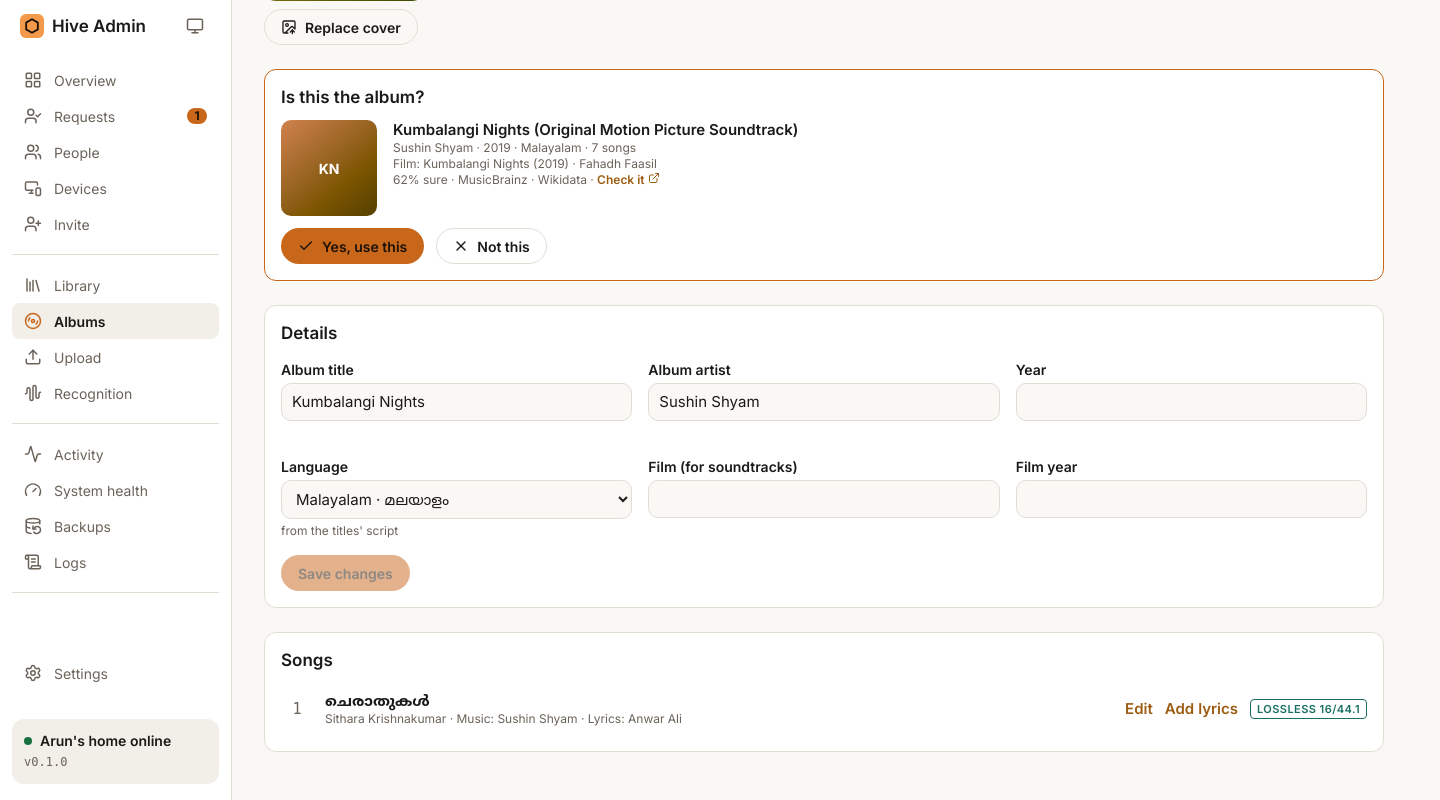
Test: Albums page › finds lyrics online, then saves them
(page scrolled)
Click the button with aria-label "Lyrics for ചെരാതുകൾ": (1201, 709) left=1165, top=699, right=1238, bottom=719
(page scrolled)
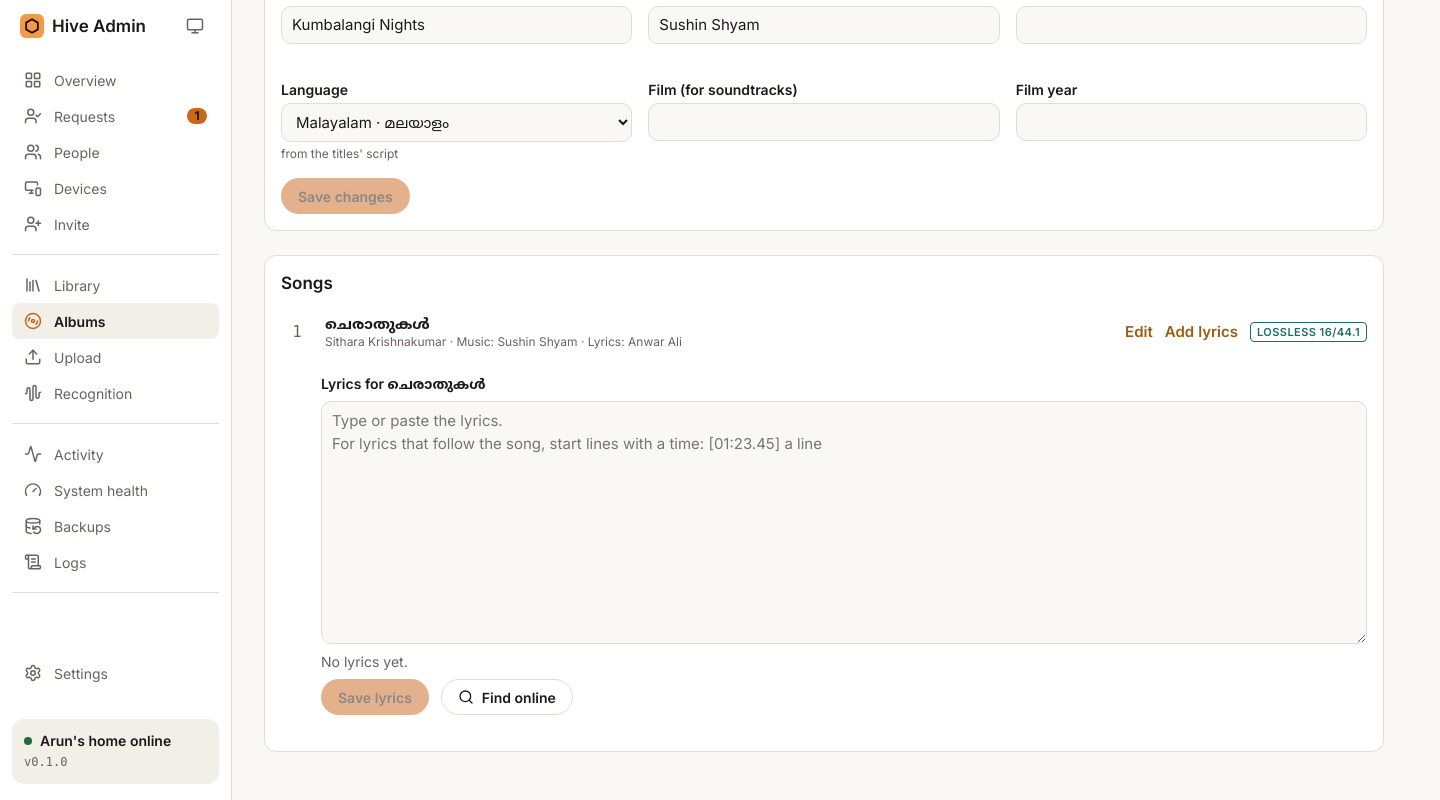
Expected: the text "No lyrics yet." is shown, left=321, top=653, right=408, bottom=670
Click the button "Find online": (507, 697) left=441, top=679, right=573, bottom=715
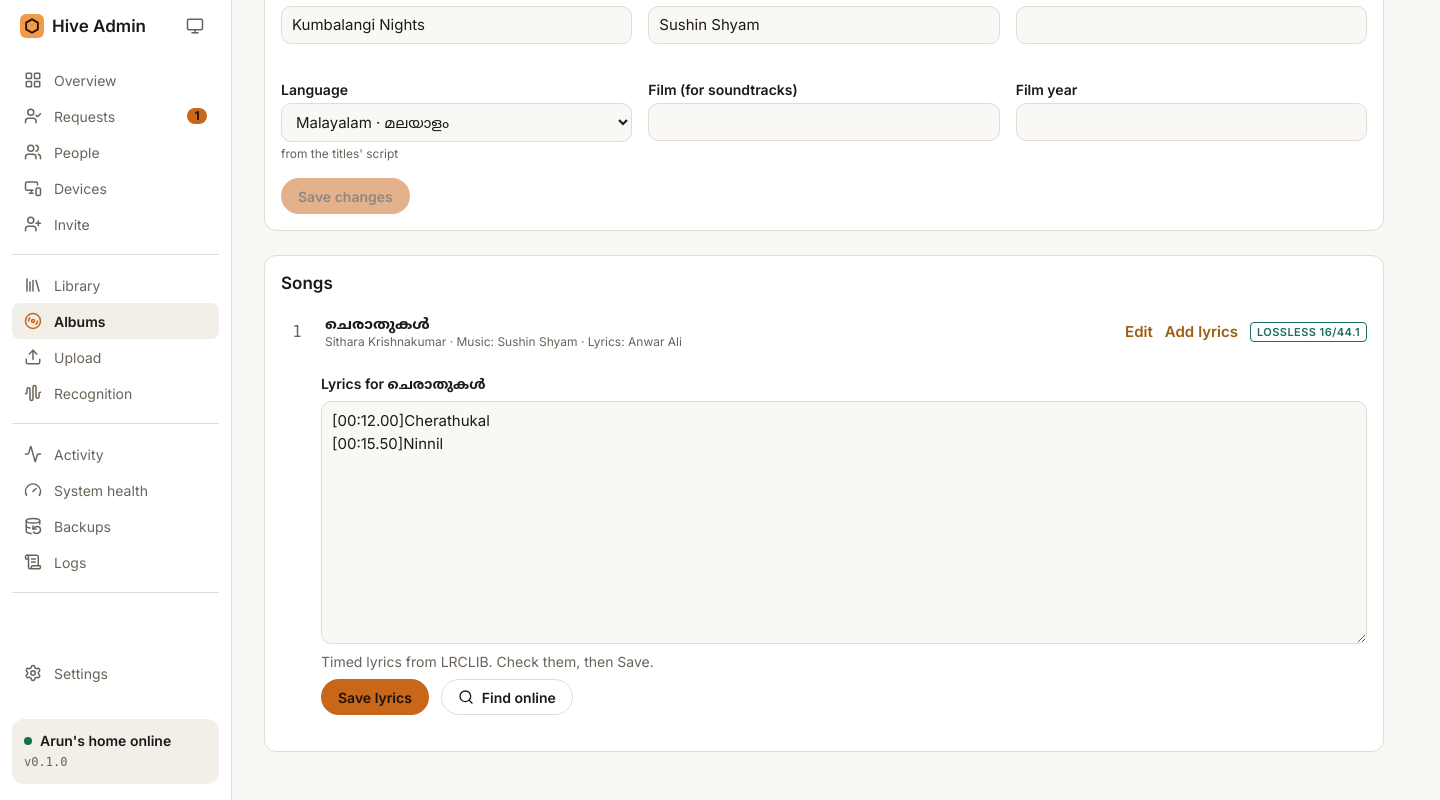
Expected: the text "Timed lyrics from LRCLIB. Check them, then Save." is shown, left=321, top=653, right=654, bottom=670
Click the button "Save lyrics": (375, 697) left=321, top=679, right=429, bottom=715
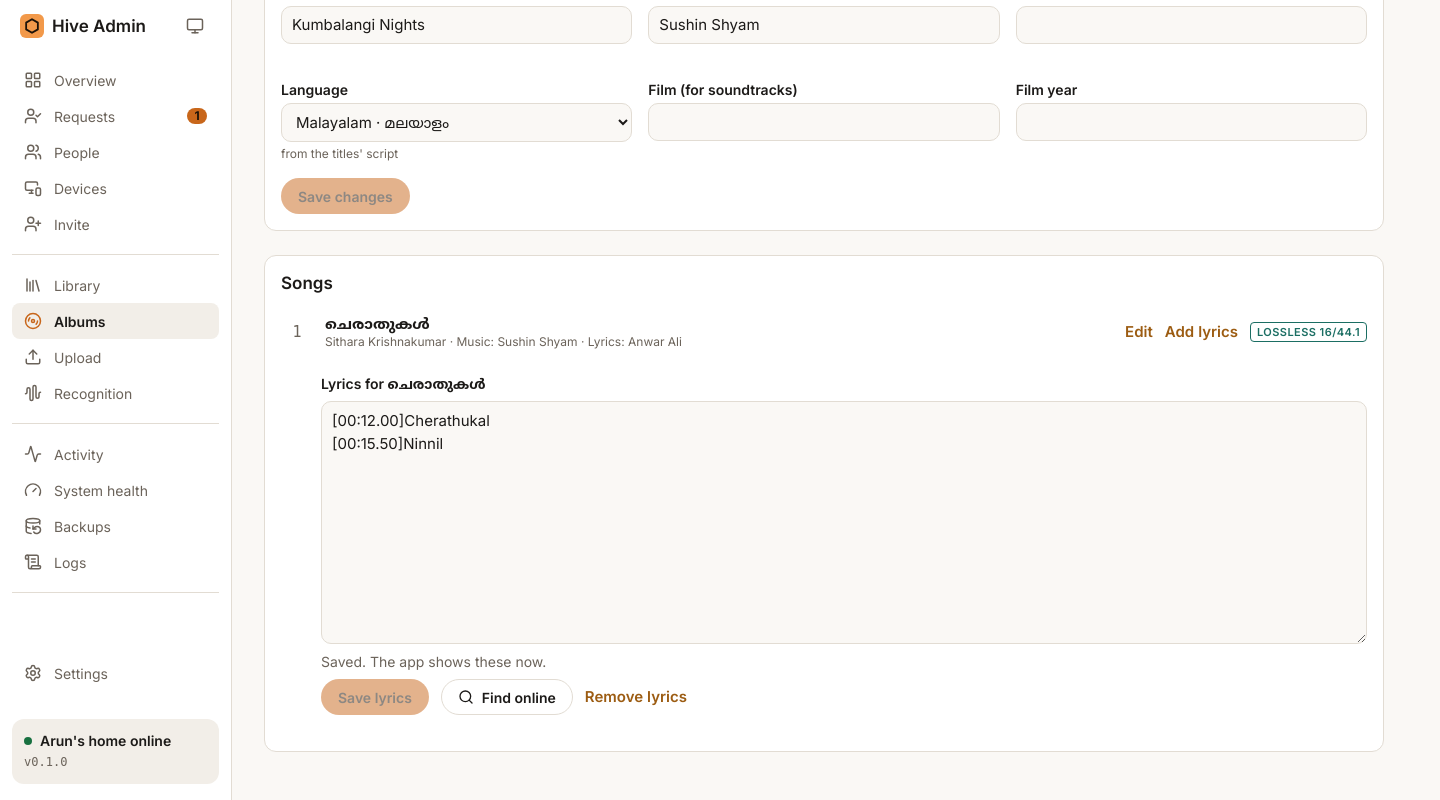
Expected: the text "Saved. The app shows these now." is shown, left=321, top=653, right=546, bottom=670
